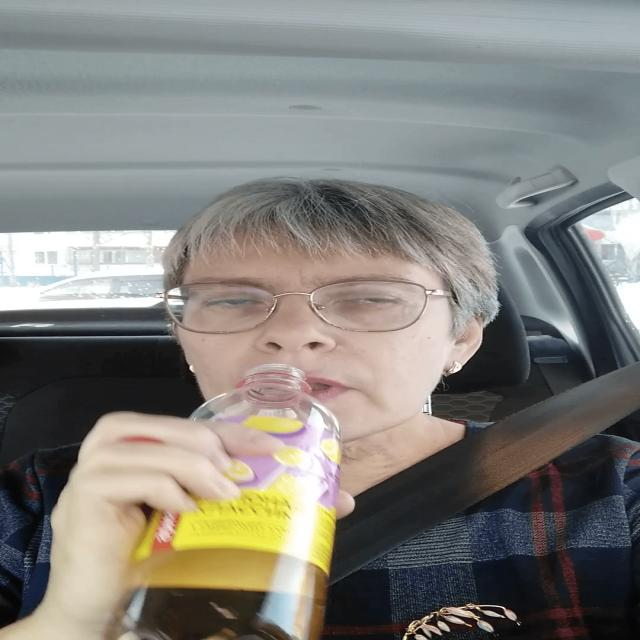3: (346, 363, 640, 574)
Seatbelt: (125, 365, 358, 635)
